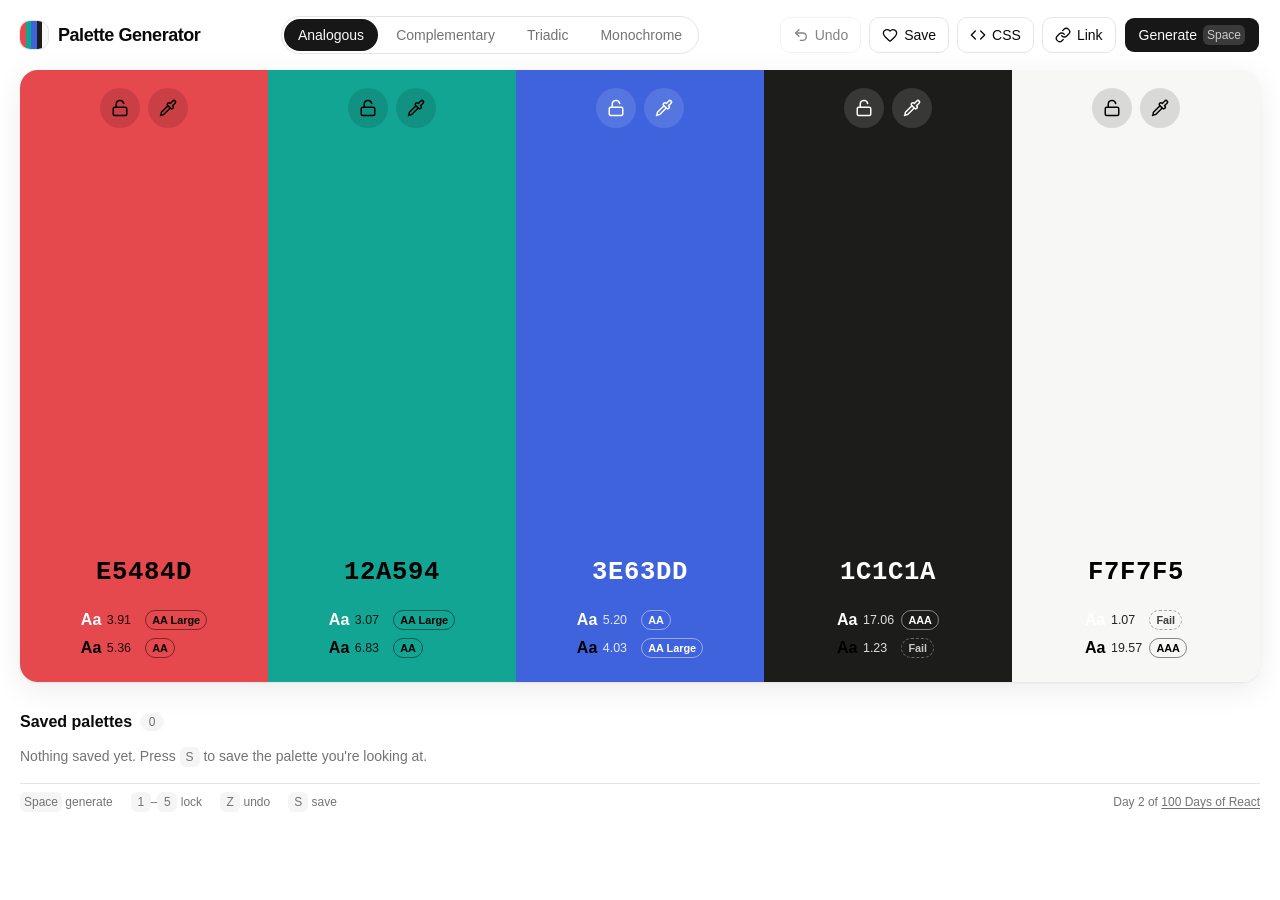
it: App › tells you when copying fails
Step 1. Click the button named "Copy #12A594" → click(392, 573), box [336, 550, 448, 596]
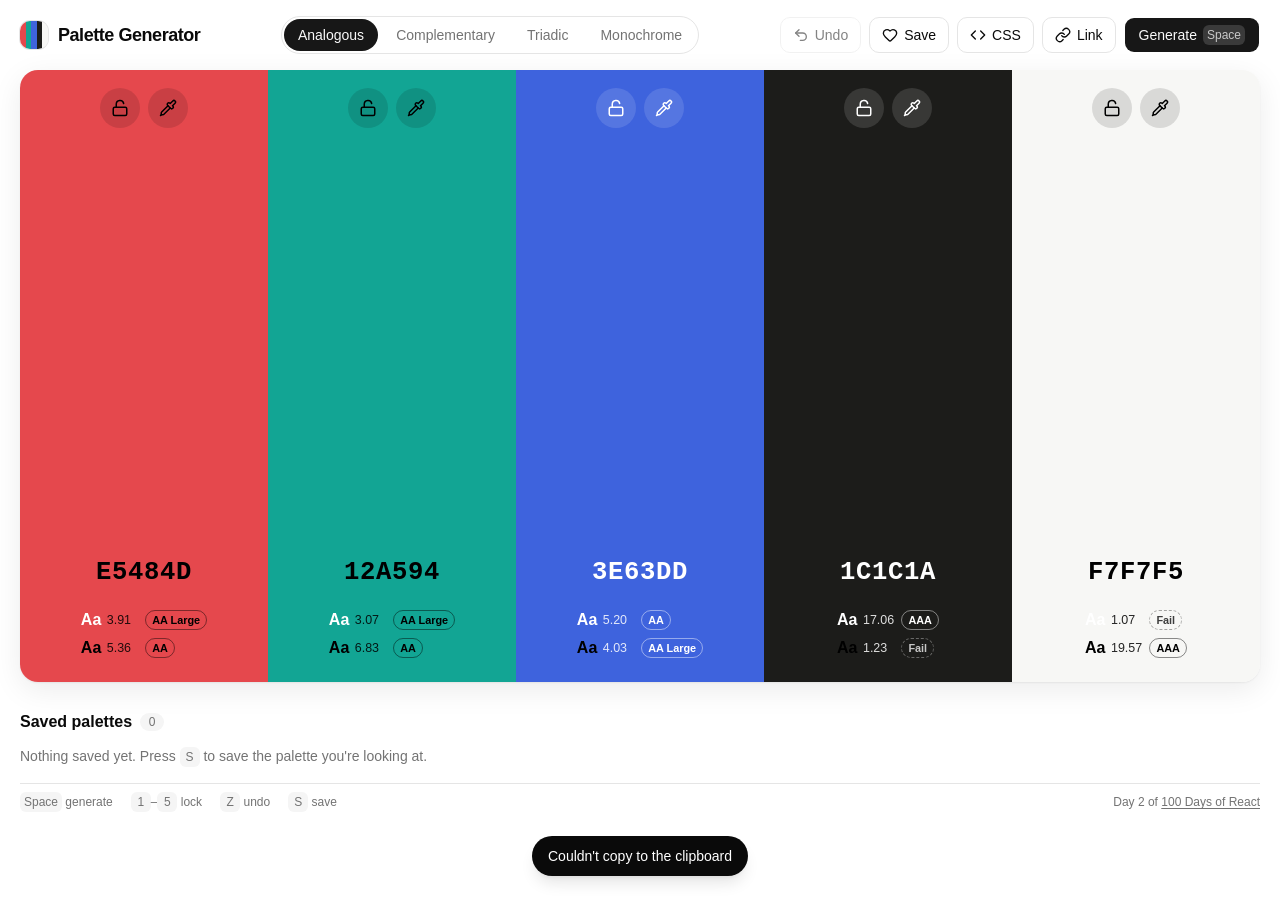
Result: the message reads "Couldn't copy to the clipboard" at [548, 848, 732, 864]
